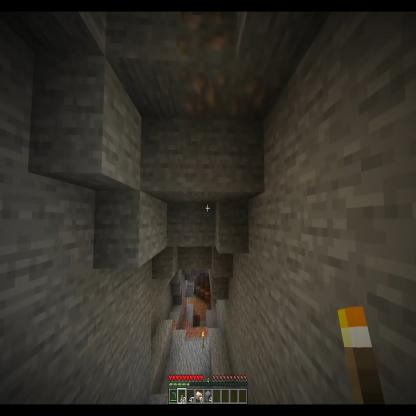iron ore: (176, 15, 237, 125), (226, 60, 288, 126)
